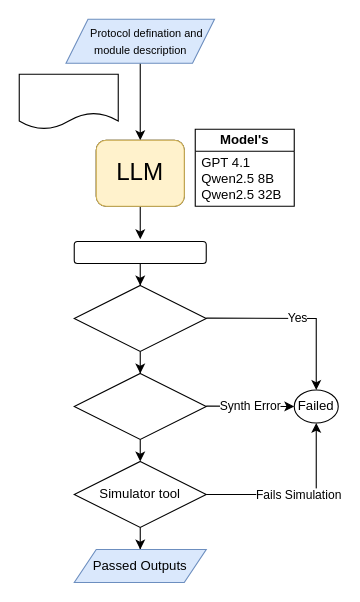
Some shapes in this 360 by 602 pixel diagram are drawn without their labels. The shapes that lost their labels are listed below. From the top down, each one's centre as x and y in pixels, then its label:
At (68,101): "Specification Doc".
At (139,251): "Output_code.sv".
At (139,317): "Syntax Error?".
At (139,405): "Synthesis Evaluator".
